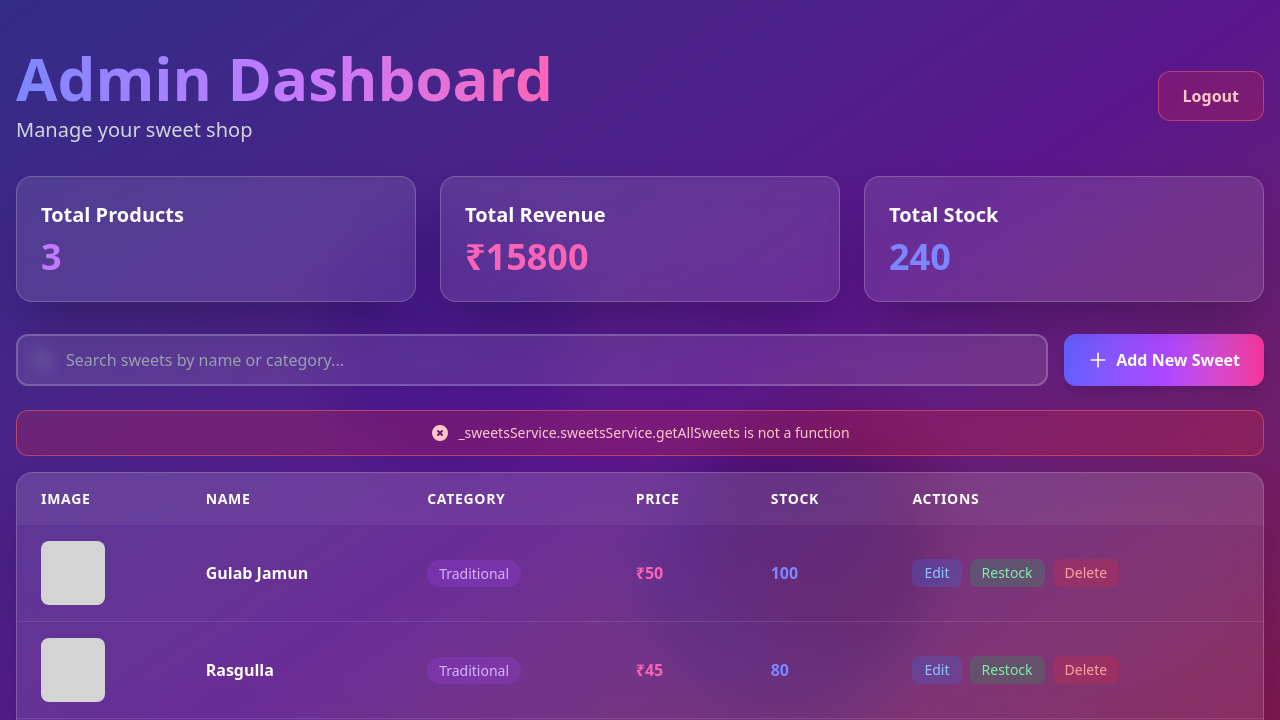
Test: DashboardContent - Add Sweet › converts price and stock to numbers when adding sweet
Click the button "Add New Sweet".
click(1164, 360)  # box [1064,334,1264,386]
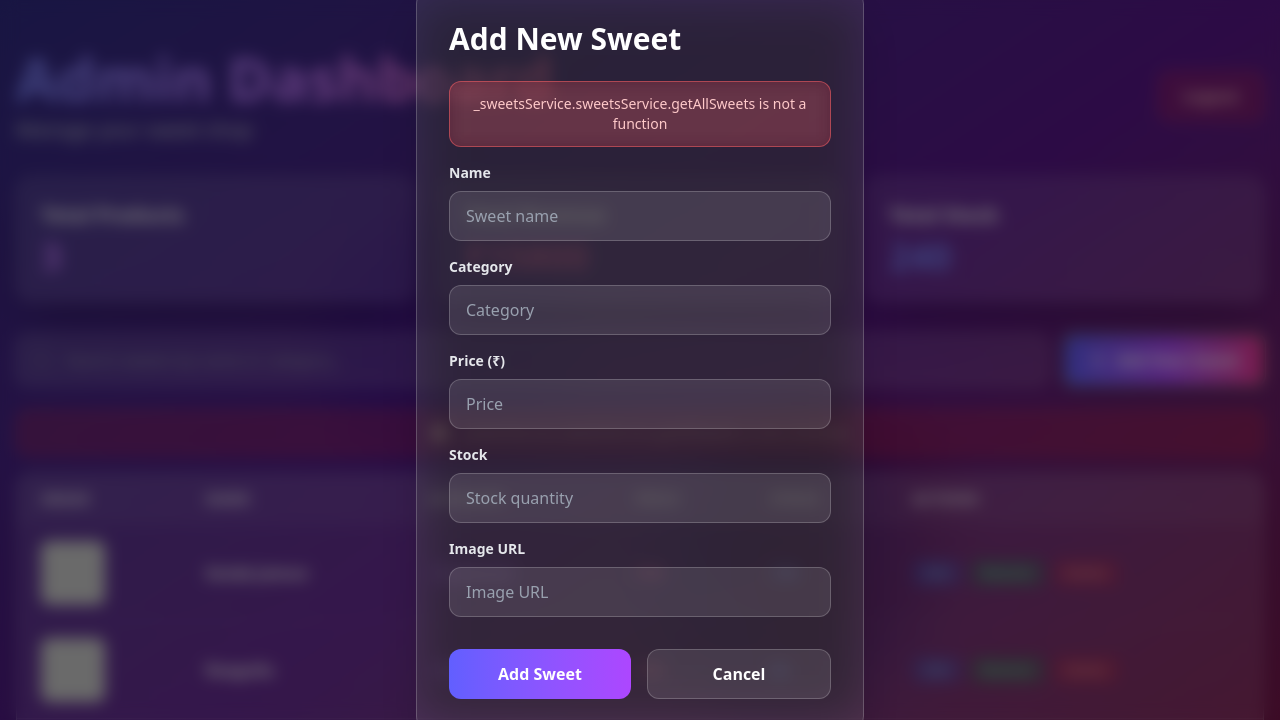
Type "Barfi" into the field with placeholder "Sweet name".
click(640, 216); type("Barfi")  # box [449,191,831,241]
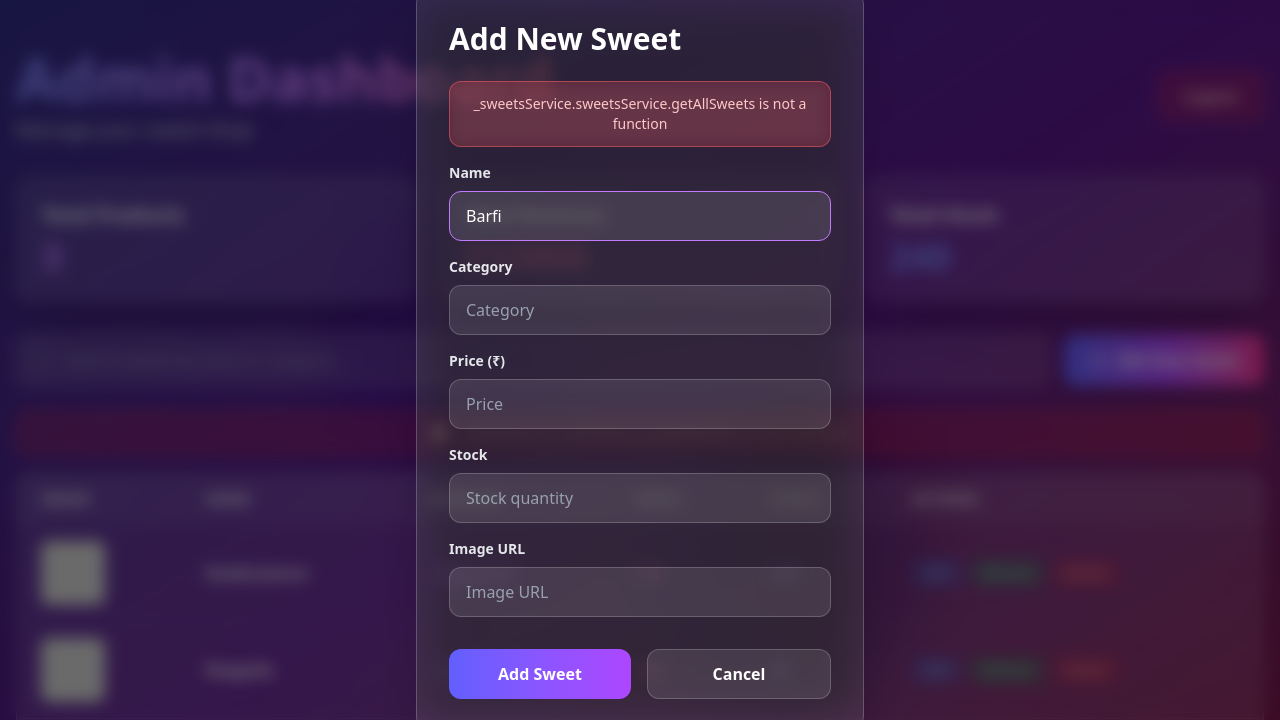
Type "Milk" into the field with placeholder "Category".
click(640, 310); type("Milk")  # box [449,285,831,335]
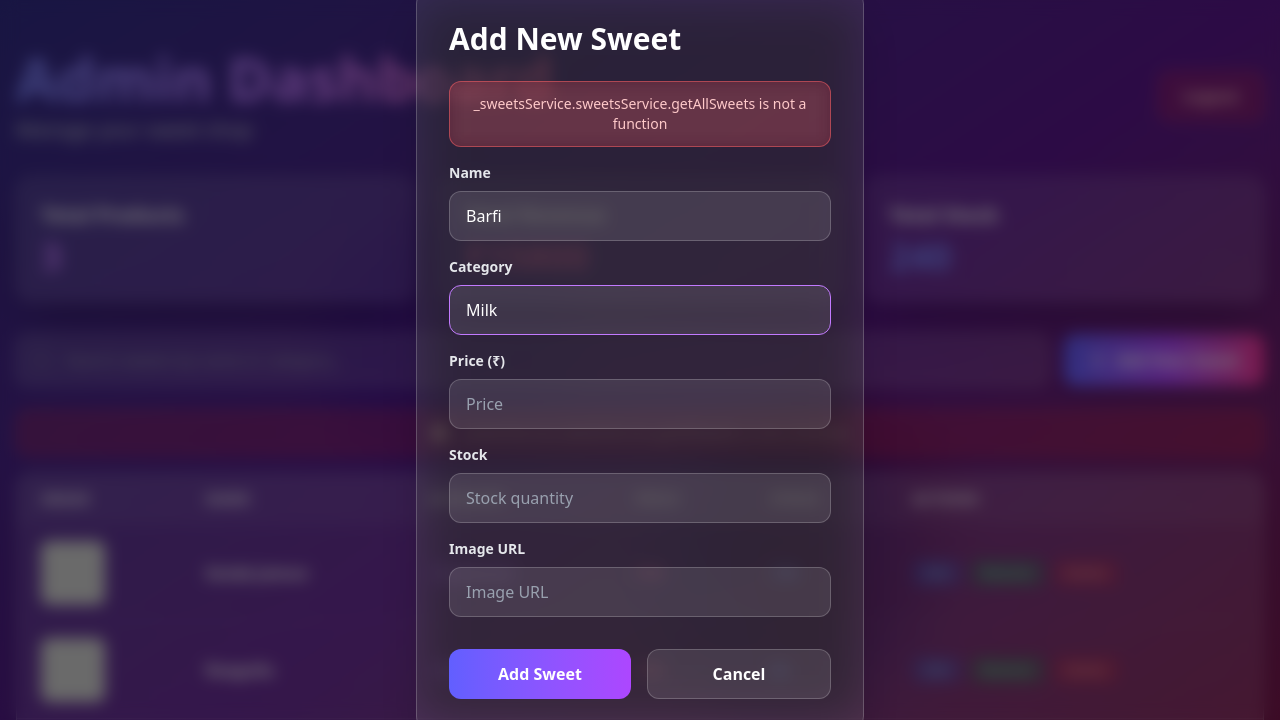
Type "70" into the number field with placeholder "Price".
click(640, 404); type("70")  # box [449,379,831,429]
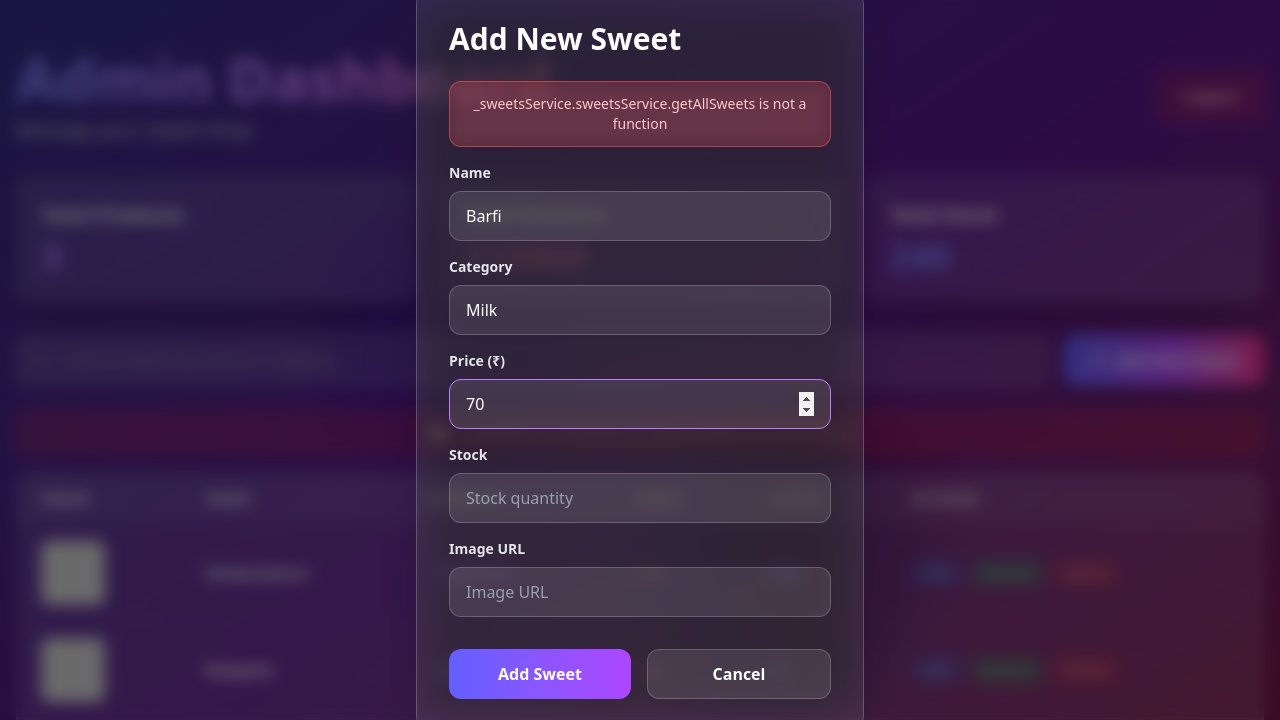
Type "30" into the number field with placeholder "Stock quantity".
click(640, 498); type("30")  # box [449,473,831,523]
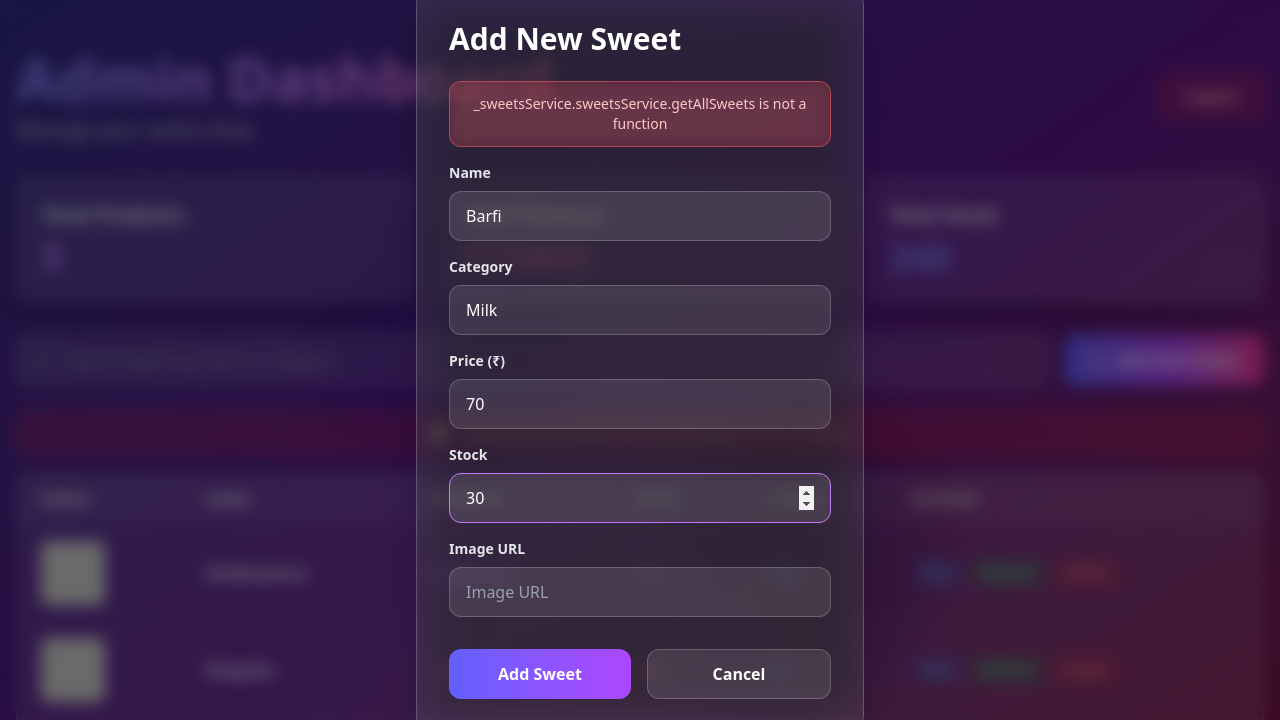
Click the button "Add Sweet".
click(540, 674)  # box [449,649,631,699]
(page scrolled)
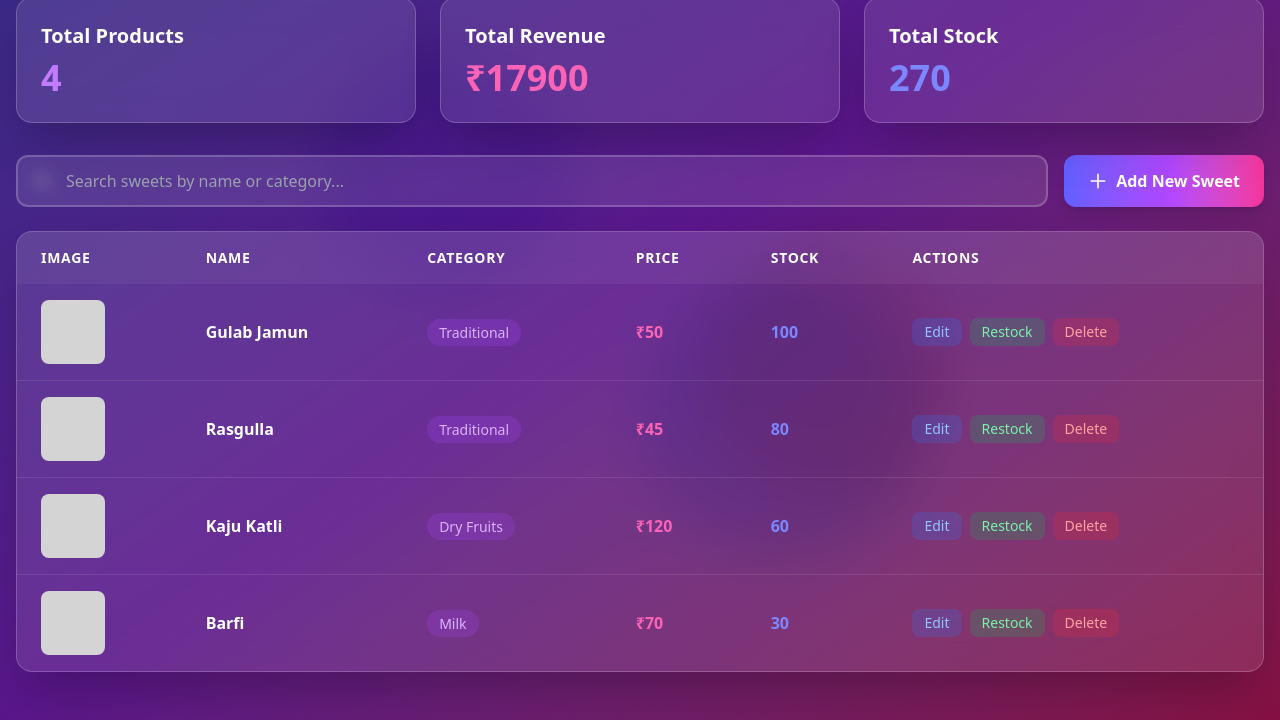
Expected: the text "Barfi" is shown, [182,574,403,671]
Expected: the text "₹70" is shown, [612,574,747,671]
Expected: the text "30" is shown, [747,574,888,671]
